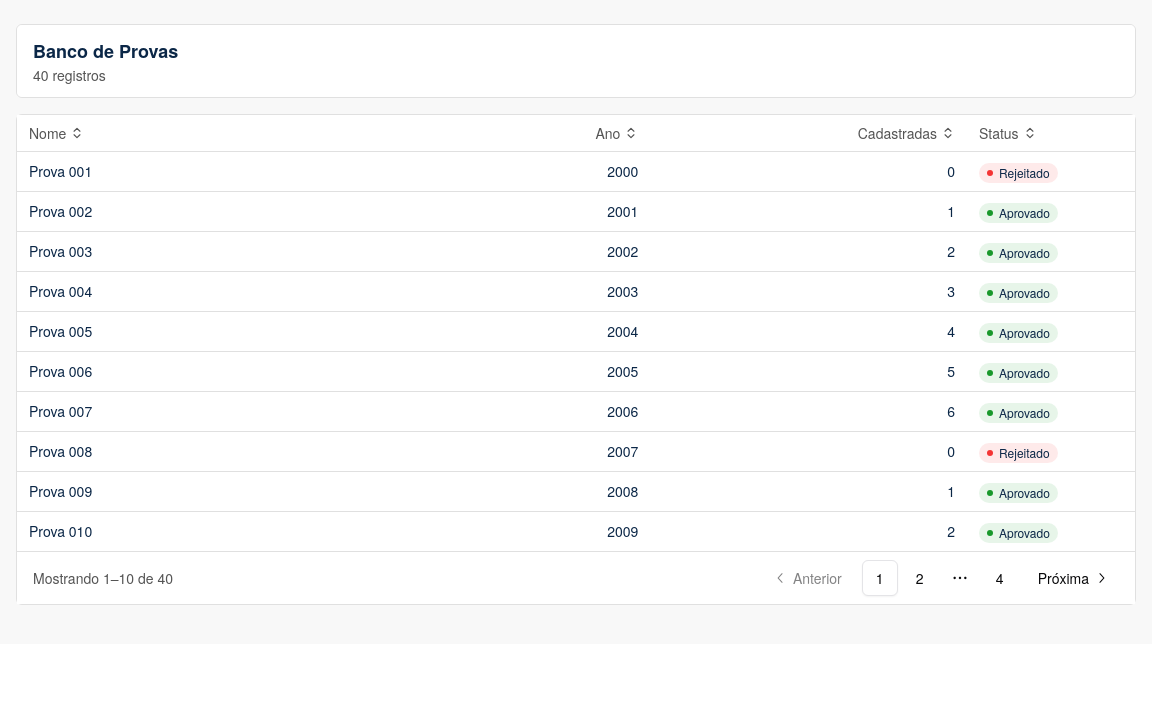
Test: DashListTemplate — trocar filtro volta para a página 1 › ordenar também recomeça da primeira página
This screenshot has width=1152, height=720.
Click the link "4": (1000, 578) [996,568,1004,588]
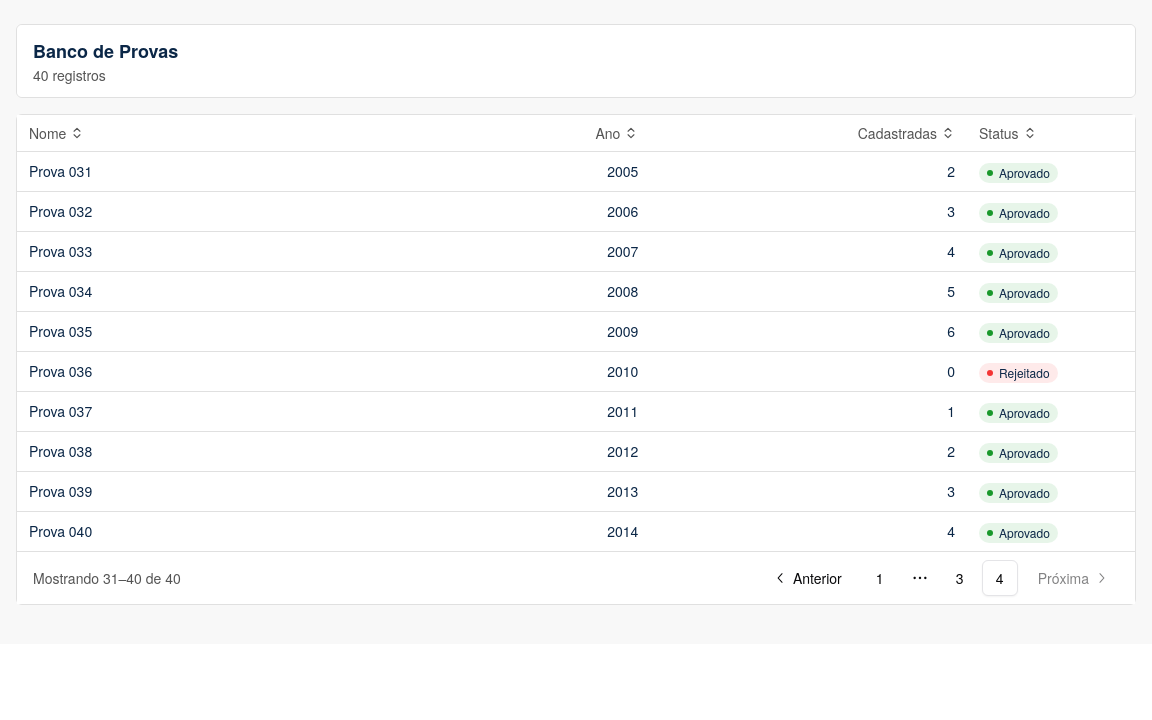
Click the button "Ano": (608, 133) [346,123,638,143]
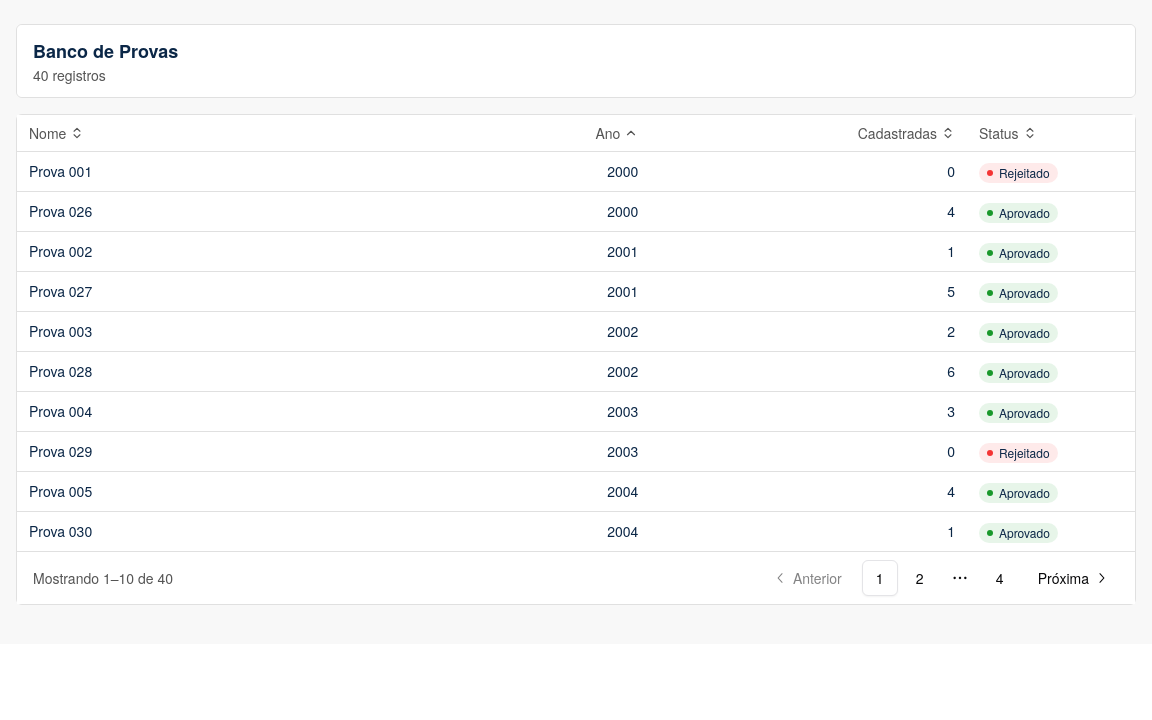
Check: the text "Mostrando 1–10 de 40" is shown, box [33,568,173,588]
